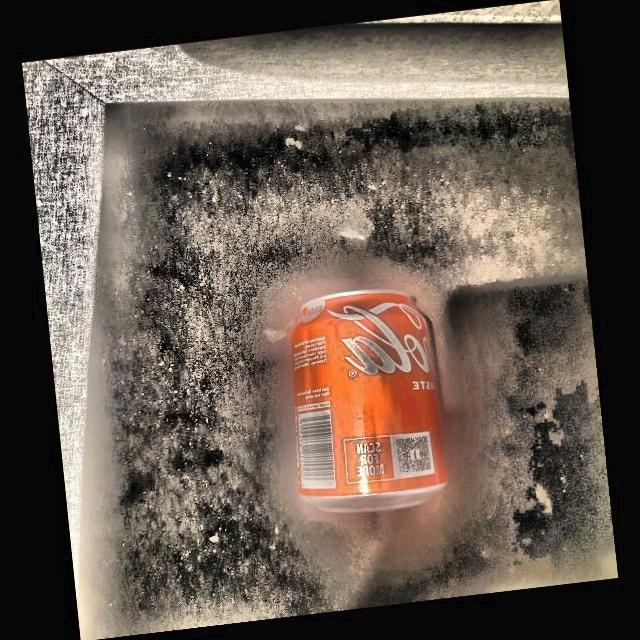coke-can: (282, 289, 452, 515)
